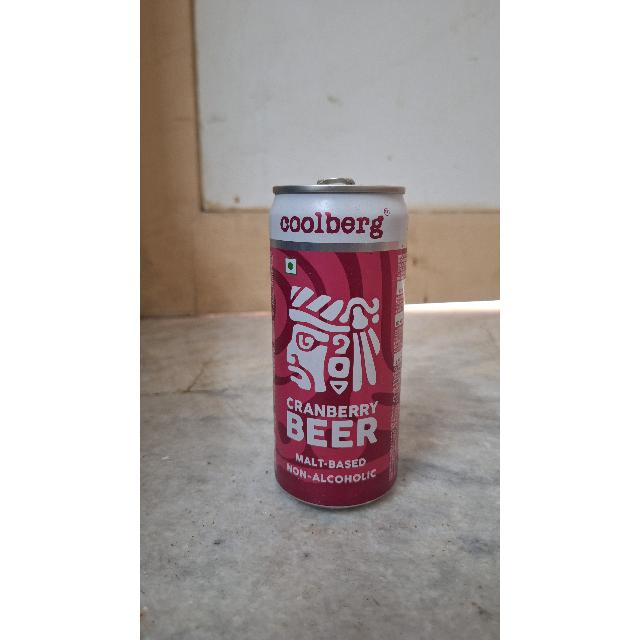Coolberg: (272, 183, 398, 492)
